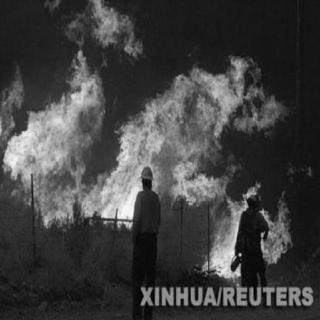Fire: (3, 2, 291, 282)
